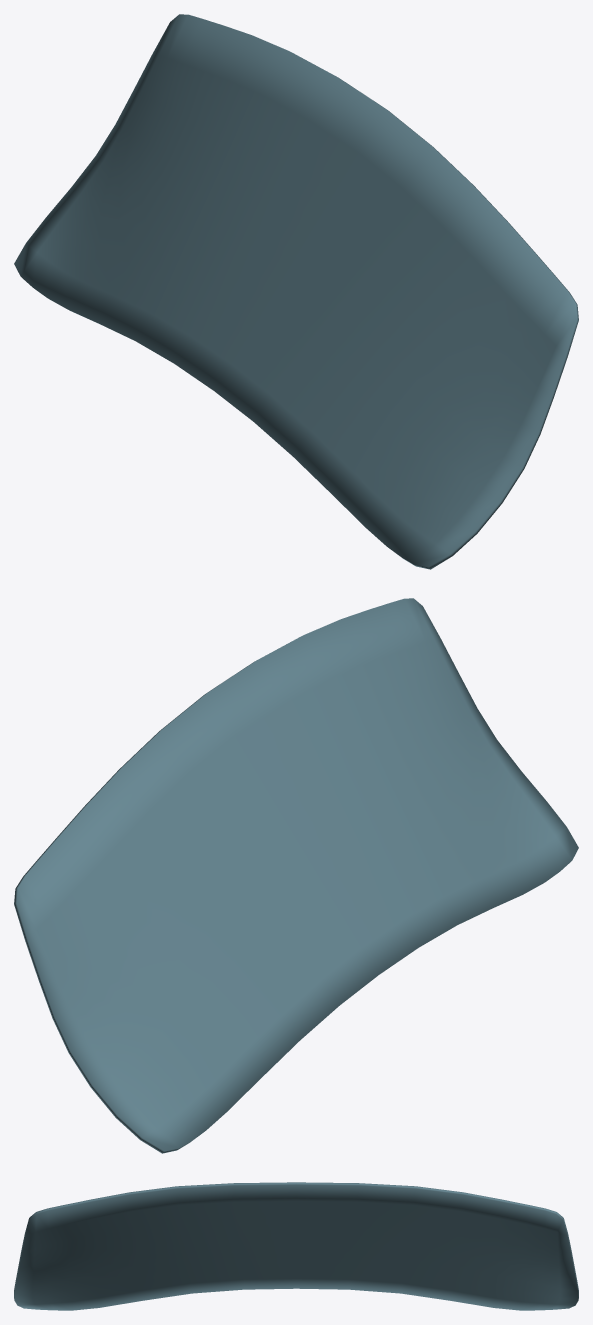
The model's file is Windshield.fbx.
3 views of the same model, one above another, from view 1: azimuth 30°, elevation 25°; view 2: azimuth 150°, elevation 25°; view 3: azimuth 270°, elevation 25° (orthographic). The views are drawn at different scales.
Parts seen in each view (by area): view 1: Windshield; view 2: Windshield; view 3: Windshield.
Boxes of the visible parts, bbox=[...] form: Windshield: bbox=[14, 14, 578, 569]; Windshield: bbox=[14, 598, 578, 1153]; Windshield: bbox=[14, 1182, 578, 1310].
Bounding box in the file's own units: 44.95 × 67.91 × 192.
